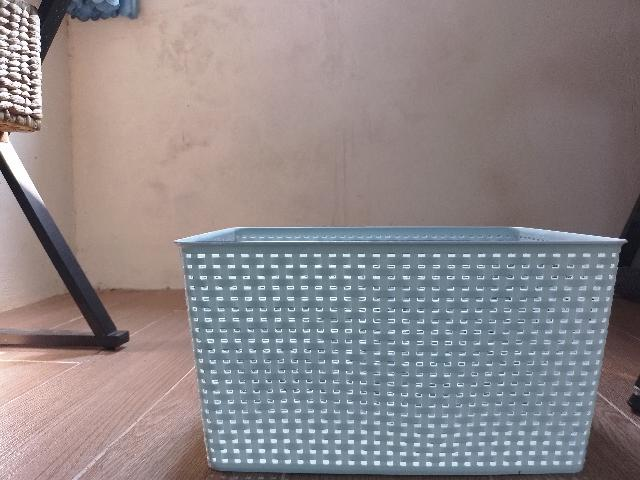cart: (174, 227, 629, 475)
